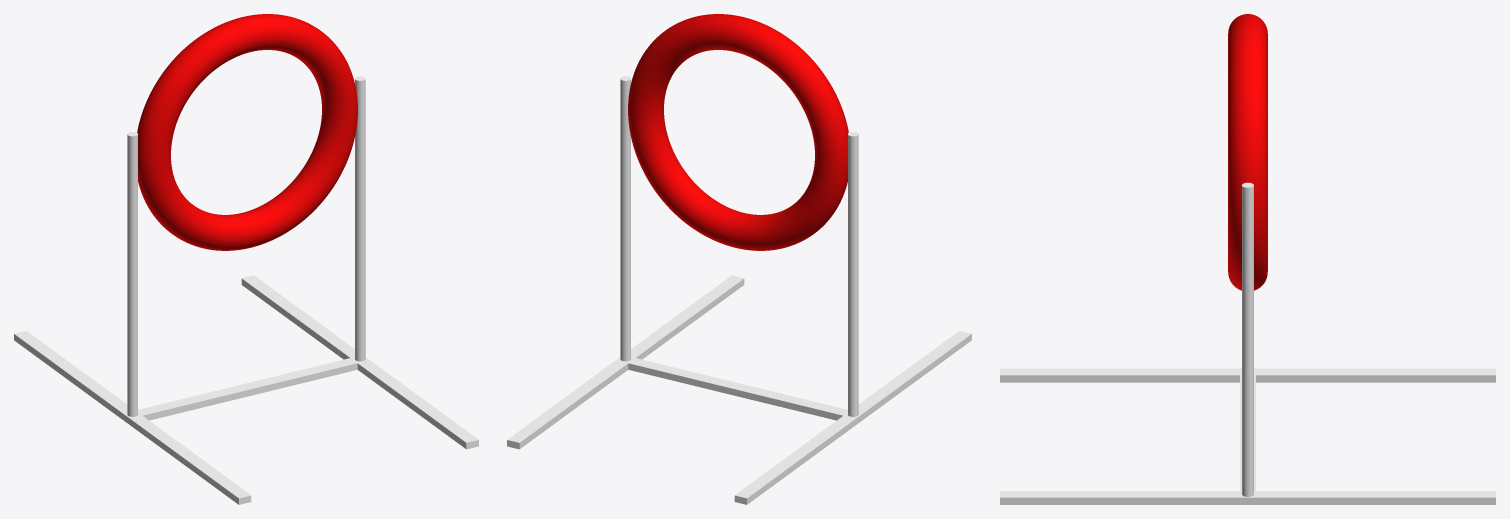
The model's file is tire.fbx.
3 views of the same model, side by side, from view 1: azimuth 30°, elevation 25°; view 2: azimuth 150°, elevation 25°; view 3: azimuth 270°, elevation 25° (orthographic). The views are drawn at different scales.
Parts seen in each view (by area): view 1: Part 2, Part 1; view 2: Part 2, Part 1; view 3: Part 1, Part 2.
Boxes of the visible parts, x1=… form: Part 2: x1=137, y1=14, x2=357, y2=250; Part 1: x1=14, y1=76, x2=478, y2=504; Part 2: x1=628, y1=14, x2=848, y2=250; Part 1: x1=507, y1=76, x2=971, y2=504; Part 1: x1=1000, y1=182, x2=1495, y2=504; Part 2: x1=1228, y1=14, x2=1267, y2=290.
Bounding box in the file's own units: 77 × 115 × 125.
